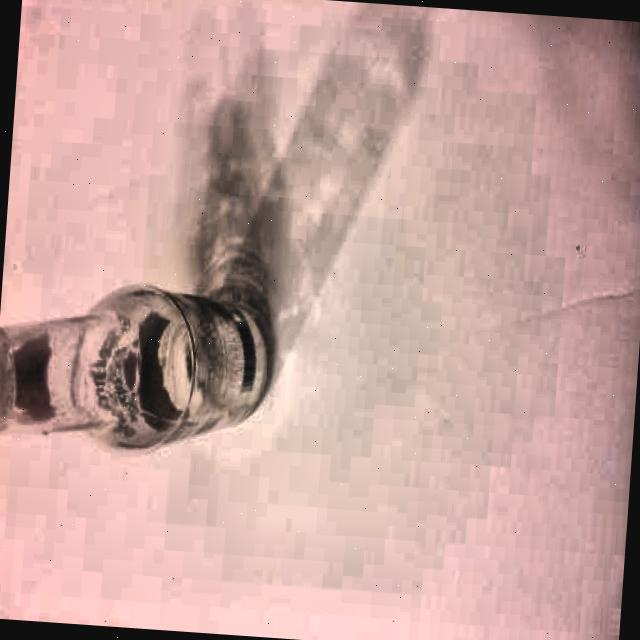glass: (0, 272, 277, 467)
